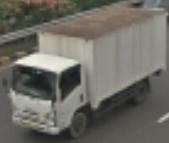truck: (2, 52, 94, 139)
